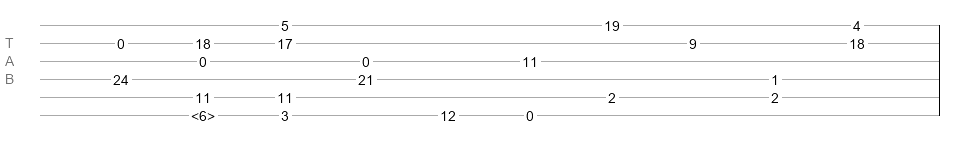0: (117, 36, 125, 46), (199, 54, 207, 64), (362, 54, 370, 64), (526, 108, 534, 118)
1: (771, 72, 779, 82)
11: (195, 90, 211, 100), (277, 90, 293, 100), (522, 54, 538, 64)
12: (440, 108, 456, 118)
17: (277, 36, 293, 46)
18: (195, 36, 211, 46), (849, 36, 865, 46)
19: (604, 18, 620, 28)
2: (608, 90, 616, 100), (771, 90, 779, 100)
21: (358, 72, 374, 82)
24: (113, 72, 129, 82)
3: (281, 108, 289, 118)
4: (853, 18, 861, 28)
5: (281, 18, 289, 28)
9: (689, 36, 697, 46)
harmonic: (191, 108, 215, 118)
